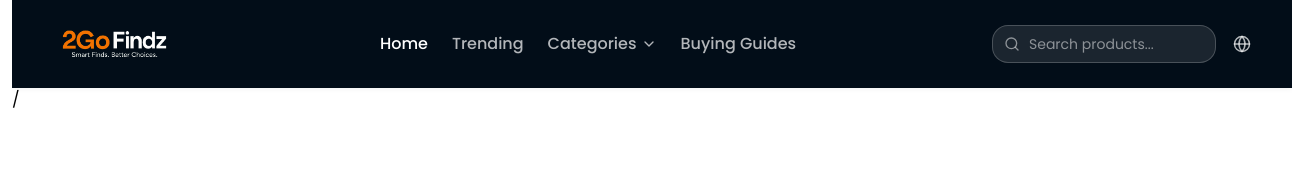
Navbar › closes the categories dropdown on outside click
This screenshot has width=1292, height=189.
Click the button "Categories".
click(602, 44)  # box [548,31,656,57]
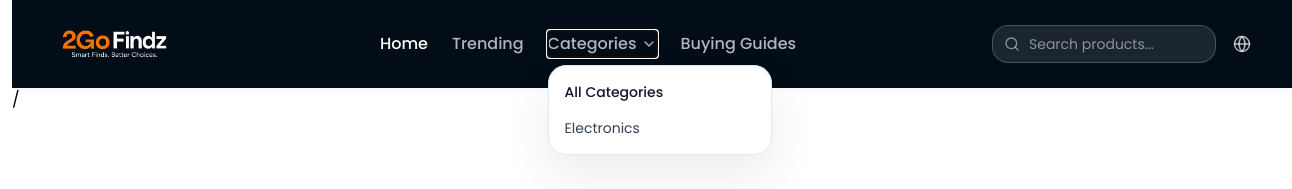
Expected: the menu item "Electronics" is shown, [565,118,640,138]
Click the element that starts with "Home".
click(652, 56)  # box [12,0,1291,112]
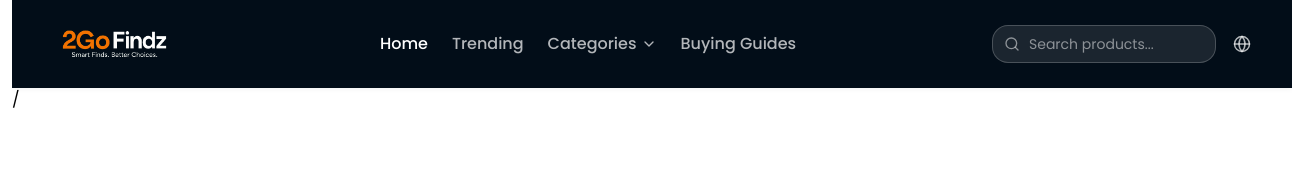
Expected: the menu item "Electronics" is gone
